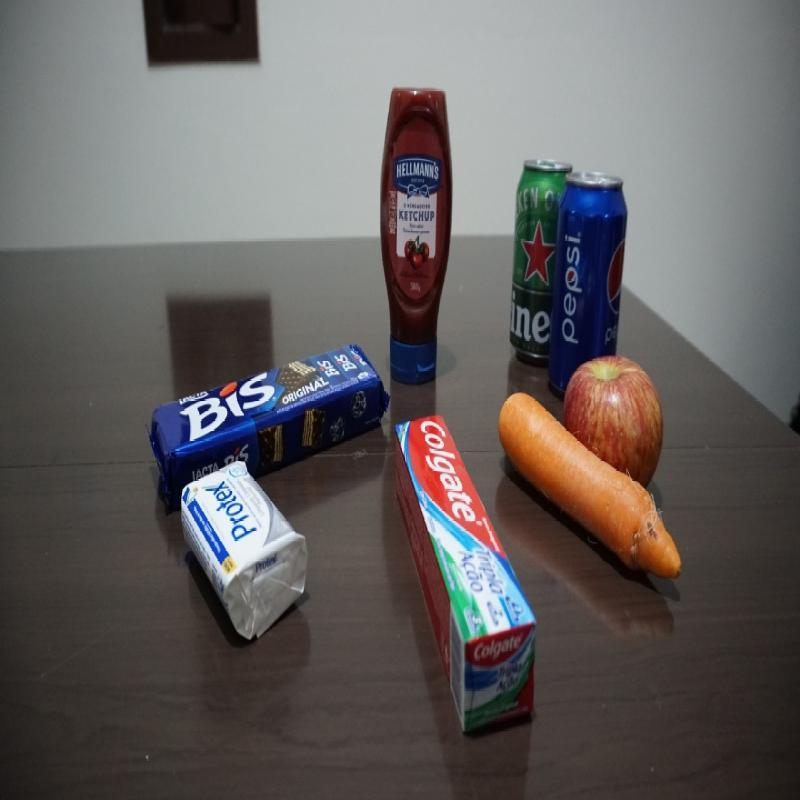Apple: (569, 358, 664, 450)
Beer can: (512, 154, 552, 370)
Carrot: (539, 423, 685, 598)
Ketchup: (384, 82, 452, 386)
Soap: (174, 458, 312, 643)
Soda can: (559, 171, 626, 358)
Toothpaste: (393, 413, 536, 738)
